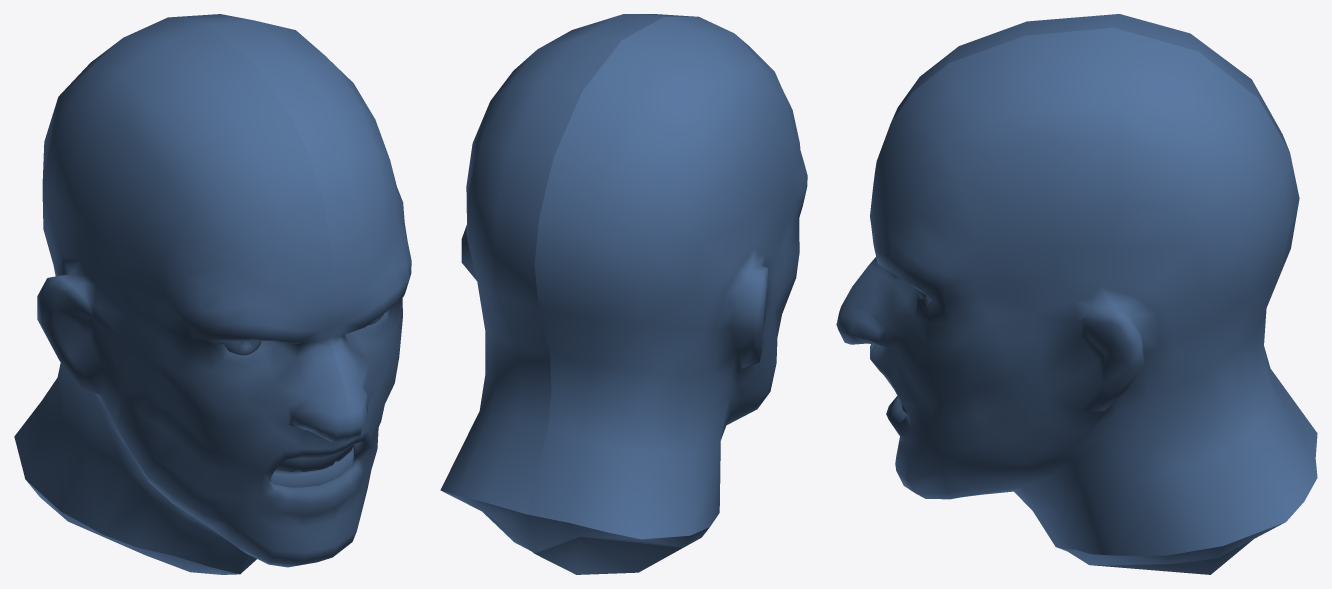
The model's file is Z_Head.fbx.
The picture shows the model from 3 angles, left to right: view 1: azimuth 30°, elevation 25°; view 2: azimuth 150°, elevation 25°; view 3: azimuth 270°, elevation 25°; orthographic projection. The views are drawn at different scales.
Visible parts, largest first — view 1: Z_Head; view 2: Z_Head; view 3: Z_Head.
Boxes of the visible parts, <box> form: Z_Head: <box>14,14,411,574</box>; Z_Head: <box>440,14,807,574</box>; Z_Head: <box>836,14,1317,574</box>.
Bounding box in the file's own units: 1754 × 2806 × 2293.
